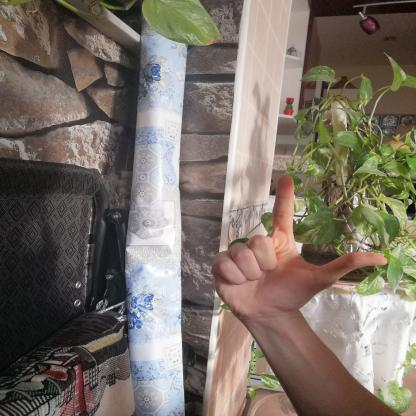LAAM: (202, 168, 396, 332)
